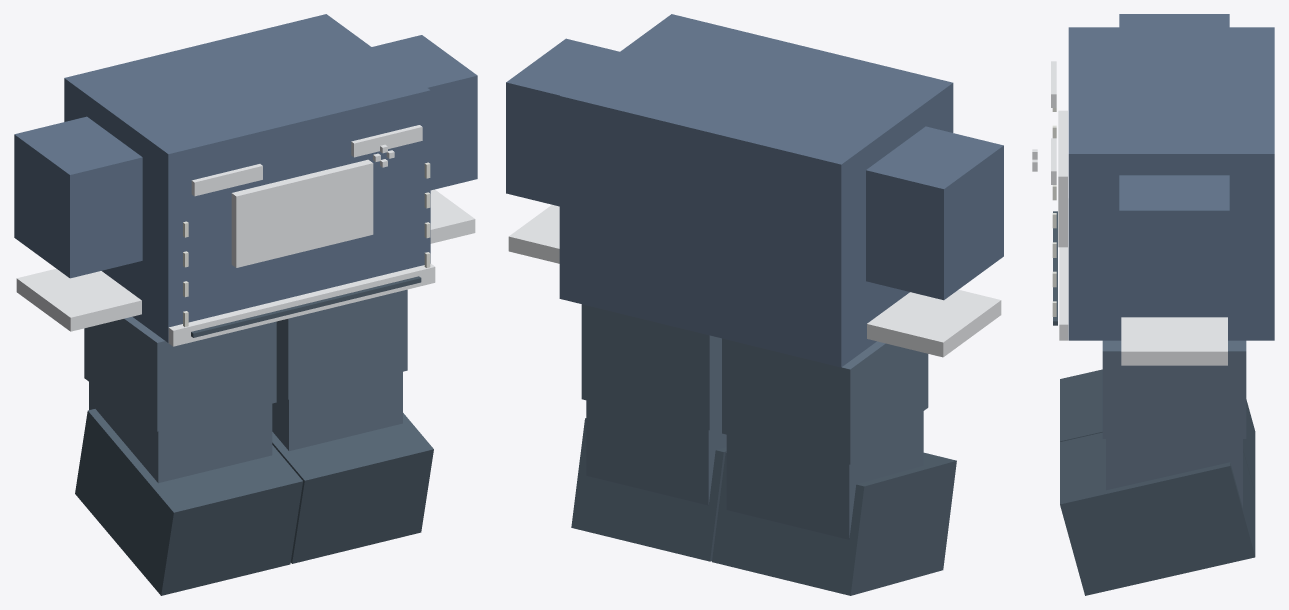
The model's file is casual-navy.glb.
3 renders of one model, left to right at view 1: azimuth 30°, elevation 25°; view 2: azimuth 150°, elevation 25°; view 3: azimuth 270°, elevation 25°, orthographic. The views are drawn at different scales.
Parts seen in each view (by area): view 1: jacket, shoe-Right, upper-sleeve-Right, trouser-Right, shoe-Left, tee-panel, trouser-Left, lower-trouser-Right, upper-sleeve-Left, lower-trouser-Left, cuff-Right, tee-hem (+4 smaller); view 2: jacket, upper-sleeve-Right, trouser-Right, shoe-Right, trouser-Left, lower-trouser-Right, lower-trouser-Left, upper-sleeve-Left, shoe-Left, cuff-Right, cuff-Left; view 3: jacket, shoe-Left, upper-sleeve-Left, trouser-Left, lower-trouser-Left, cuff-Left, shoe-Right, upper-sleeve-Right, tee-panel, tee-hem, design-casual-double-hem.
Boxes of the visible parts, box(x1,y1,x2,y2) form: jacket: box(64, 14, 430, 342); shoe-Right: box(75, 409, 302, 595); upper-sleeve-Right: box(14, 116, 142, 278); trouser-Right: box(84, 317, 276, 431); shoe-Left: box(272, 413, 433, 563); tee-panel: box(231, 159, 373, 267); trouser-Left: box(276, 289, 407, 399); lower-trouser-Right: box(89, 382, 272, 482); upper-sleeve-Left: box(372, 35, 477, 190); lower-trouser-Left: box(272, 372, 402, 451); cuff-Right: box(16, 268, 141, 331); tee-hem: box(168, 263, 435, 346); jacket: box(559, 14, 953, 367); upper-sleeve-Right: box(866, 126, 1003, 300); trouser-Right: box(722, 338, 928, 464); shoe-Right: box(712, 452, 956, 595); trouser-Left: box(581, 304, 721, 430); lower-trouser-Right: box(726, 411, 923, 539); lower-trouser-Left: box(586, 400, 726, 505); upper-sleeve-Left: box(506, 38, 619, 206); shoe-Left: box(571, 418, 726, 561); cuff-Right: box(867, 289, 1001, 357); cuff-Left: box(508, 204, 559, 263); jacket: box(1068, 27, 1274, 340); shoe-Left: box(1060, 432, 1255, 595); upper-sleeve-Left: box(1119, 175, 1229, 312); trouser-Left: box(1102, 340, 1246, 438); lower-trouser-Left: box(1106, 439, 1242, 507); cuff-Left: box(1121, 317, 1227, 365); shoe-Right: box(1060, 369, 1255, 493); upper-sleeve-Right: box(1119, 14, 1229, 27); tee-panel: box(1058, 110, 1067, 247); tee-hem: box(1059, 198, 1068, 340); design-casual-double-hem: box(1053, 211, 1057, 325).
Bounding box in the file's own units: 1.07 × 1.13 × 0.559.
